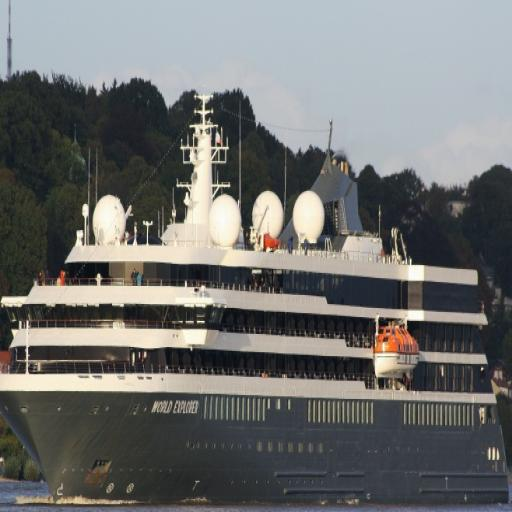cruises: (1, 88, 512, 509)
